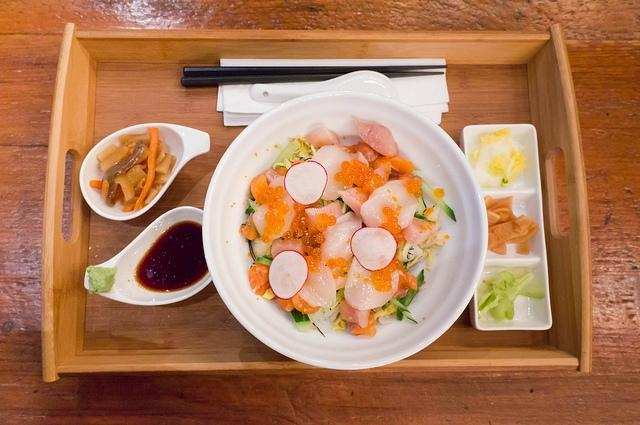carrot: (134, 128, 158, 212), (487, 219, 528, 250), (292, 292, 321, 314), (515, 239, 530, 255), (101, 180, 109, 204), (526, 221, 540, 233), (122, 204, 136, 212), (90, 181, 102, 190)
cucumber: (518, 282, 544, 300), (495, 270, 516, 287)
radish: (350, 226, 398, 272), (268, 250, 308, 300), (284, 161, 327, 205)
